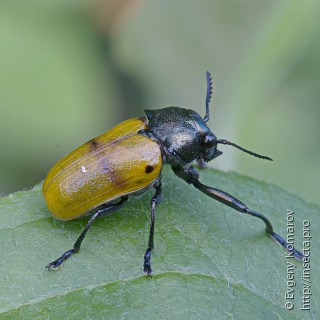Labidostomis_longimana: (35, 69, 309, 285)
